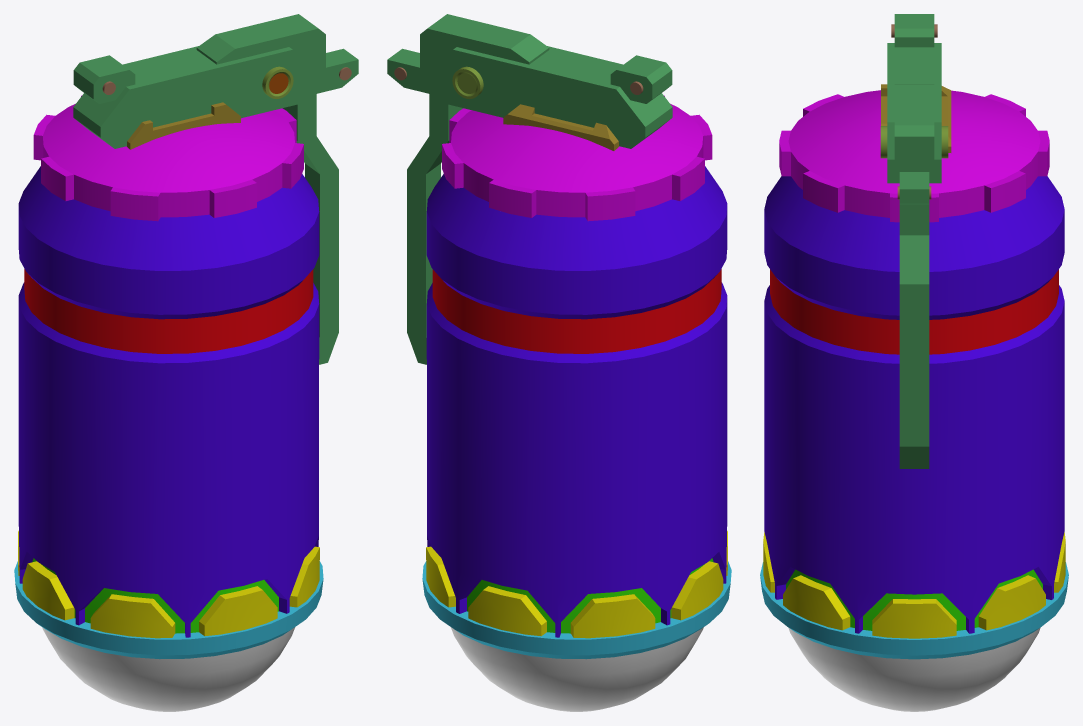
The model's file is Grenade.fbx.
3 renders of one model, left to right at view 1: azimuth 30°, elevation 25°; view 2: azimuth 150°, elevation 25°; view 3: azimuth 270°, elevation 25°, orthographic.
Parts seen in each view (by area): view 1: Granade; view 2: Granade; view 3: Granade.
Boxes of the visible parts, x1,y1,x2,y2 form: Granade: (14,14,358,711); Granade: (387,14,731,711); Granade: (760,14,1068,711).
Size of the model in its own units: 243 by 475 by 206.
